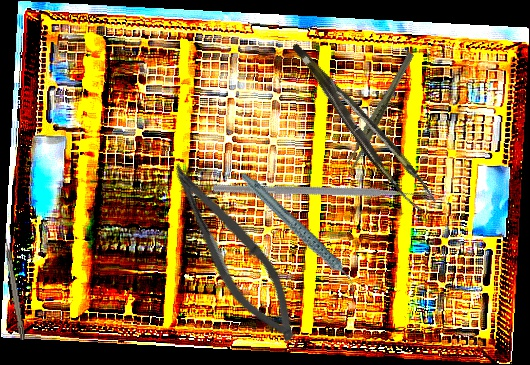Chopper: (210, 94, 436, 302)
Handpiece: (238, 154, 359, 311)
Hook Surgical: (2, 232, 26, 341)
Micro Scissor: (148, 153, 317, 353)
Tissue Forceps: (291, 27, 438, 222), (328, 50, 434, 170)
